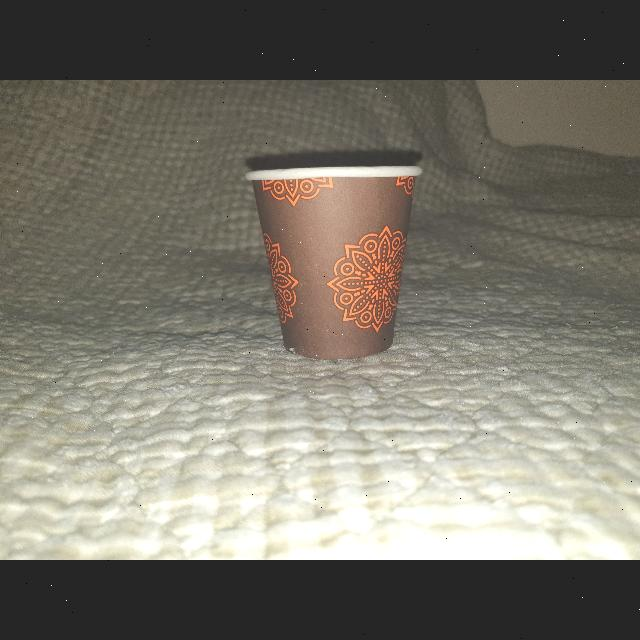trash: (246, 158, 424, 368)
